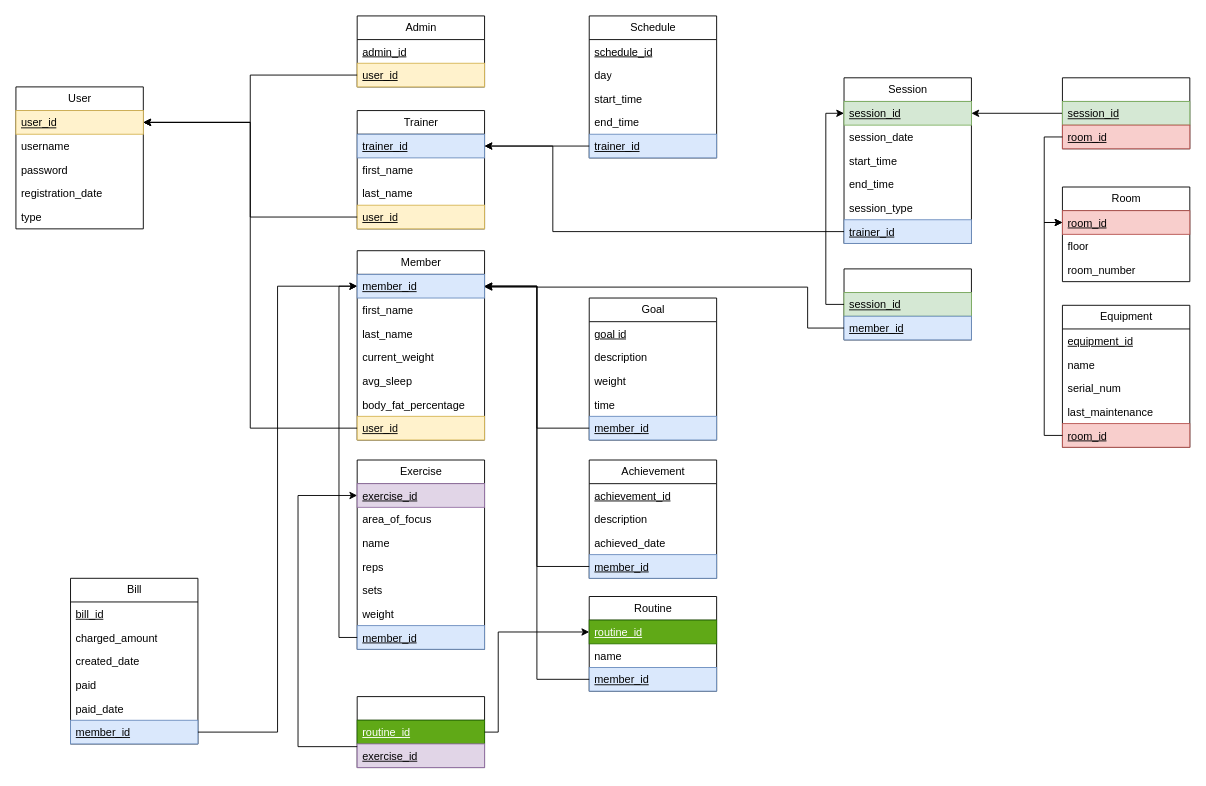
This 1206x786 diagram has some shape labels left out. Each missing label, with the box of its shape:
Booking: (1062, 77, 1190, 149)
ExerciseRoutine: (356, 696, 485, 768)
Participant: (843, 268, 971, 340)
